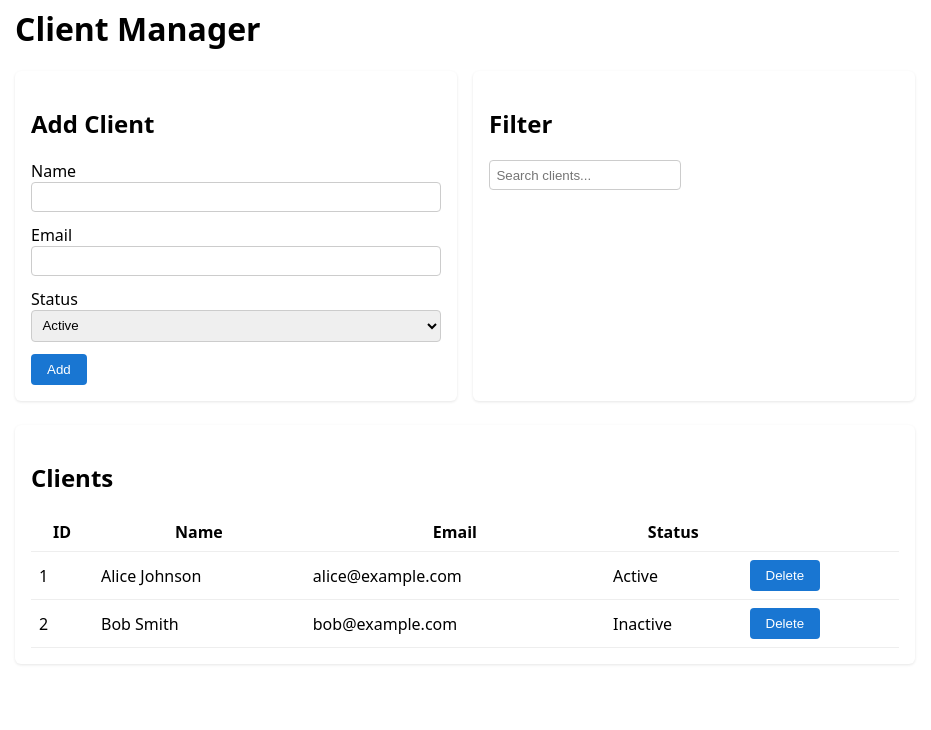
Scenario: Client Manager › adds a new client
The image size is (931, 730).
Note: find the element to input a name and type a test name
In the field with test id "input-name": (236, 197) x1=31 y1=182 x2=441 y2=212, type "Charlie Tester"
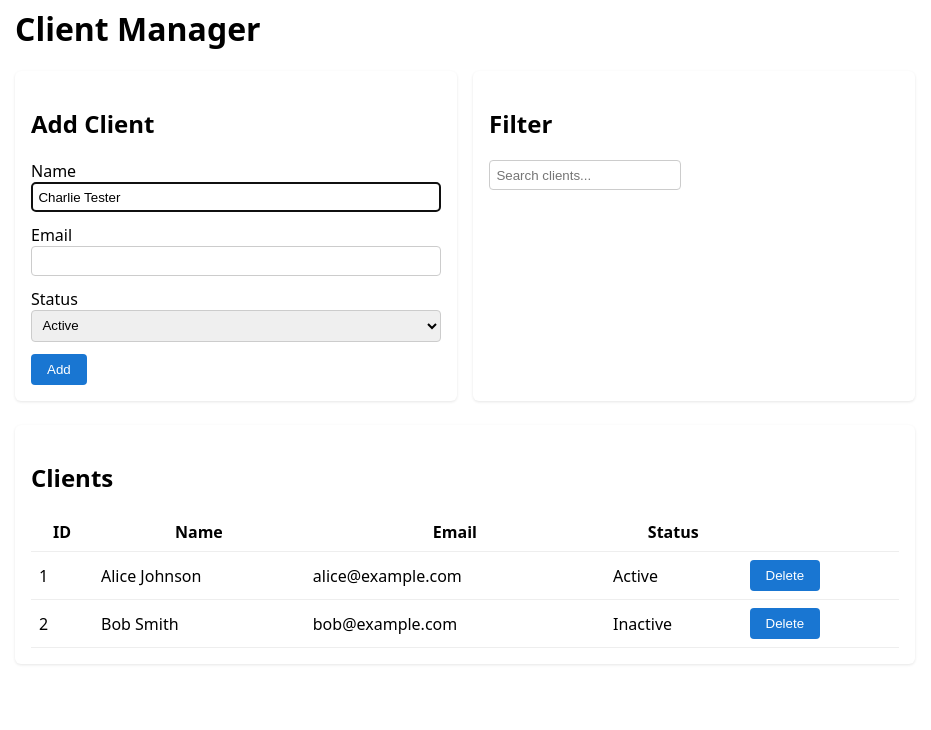
Note: find the element to input an email and type a test email
In the field with test id "input-email": (236, 261) x1=31 y1=246 x2=441 y2=276, type "charlie@test.com"
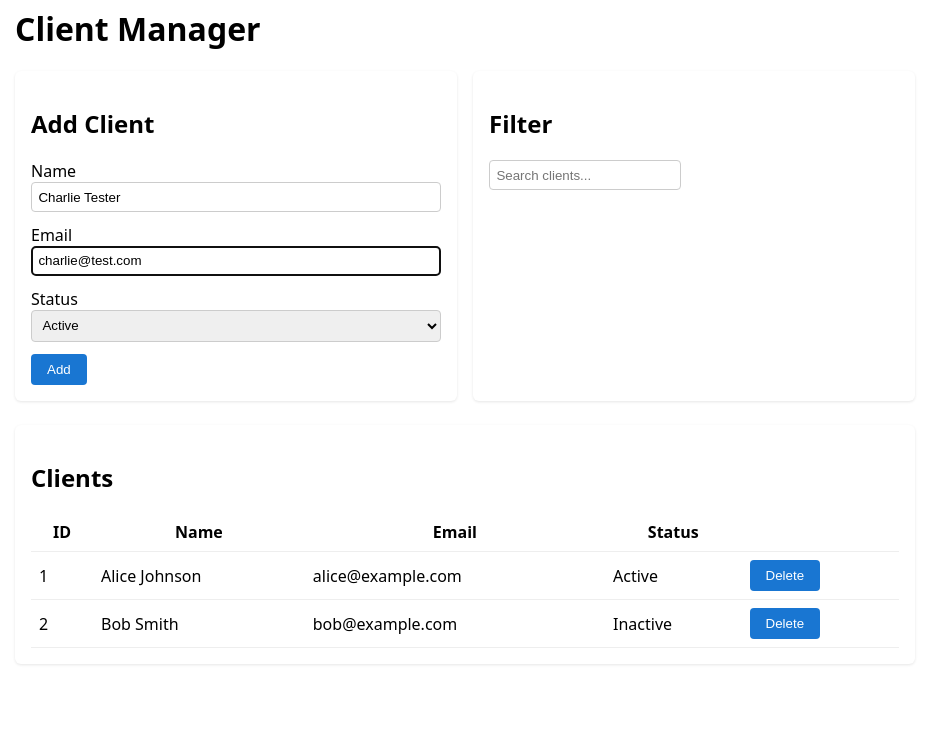
Note: find the element to set a status and select Active
Select "Active" in the dropdown with test id "select-status": (236, 326) x1=31 y1=310 x2=441 y2=342
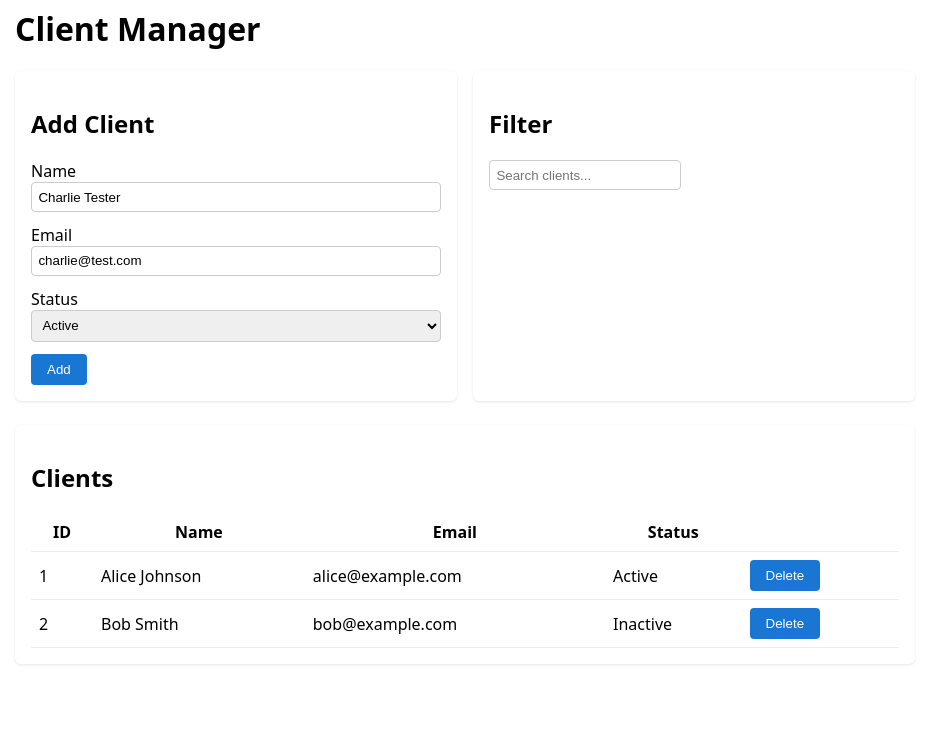
Note: find the button to add the client and click it
Click the button with test id "btn-add-client": (59, 370) x1=31 y1=354 x2=87 y2=385
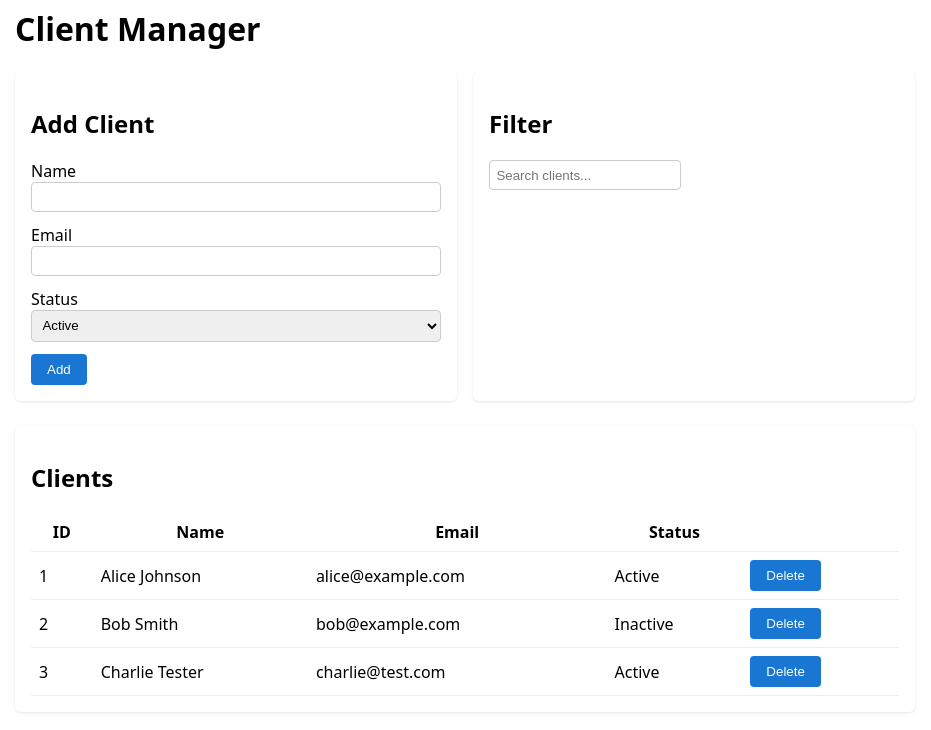
Expected: the cell with test id "client-row" reads "Charlie Tester", x1=101 y1=661 x2=204 y2=683
